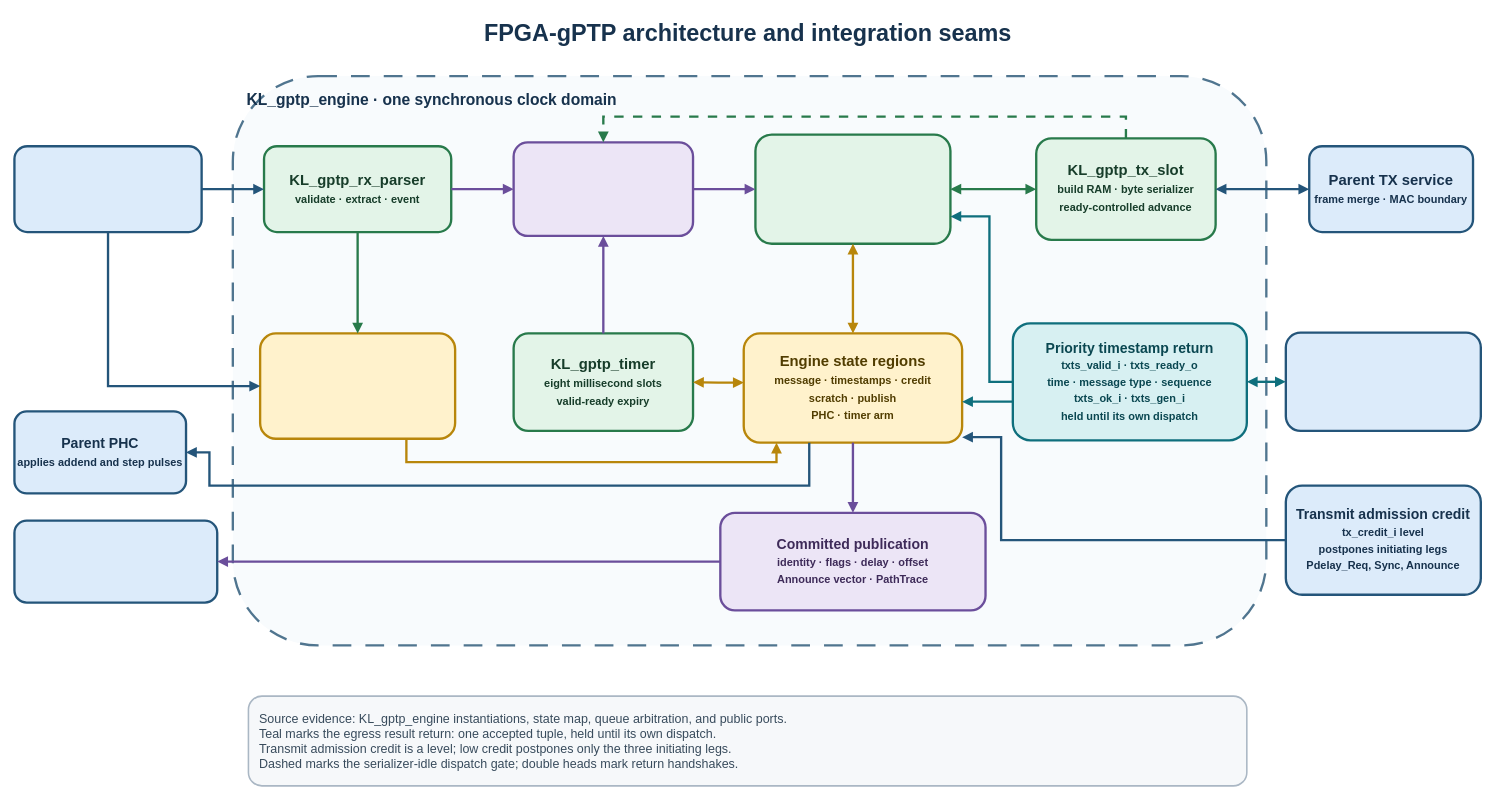
This 1495x800 diagram has some shape labels left out. The box of each missing label's shape, as (x1, y1, x2, y2) in pixels:
Event arbitration four-entry queue parser priority · timer waits: (512, 141, 694, 237)
KL_gptp_ucpu microcode · ALU · servo protocol decisions: (754, 133, 951, 245)
MAC timestamp capture exact transmitted header tag offer held until accepted: (1284, 331, 1482, 432)
Message storage two banks · ingress timestamps frozen Announce context: (259, 332, 456, 440)
Parent RX service classified 0x88F7 · checked frame · ingress time: (13, 145, 202, 233)
Parent status consumer samples only on commit: (13, 519, 218, 603)
